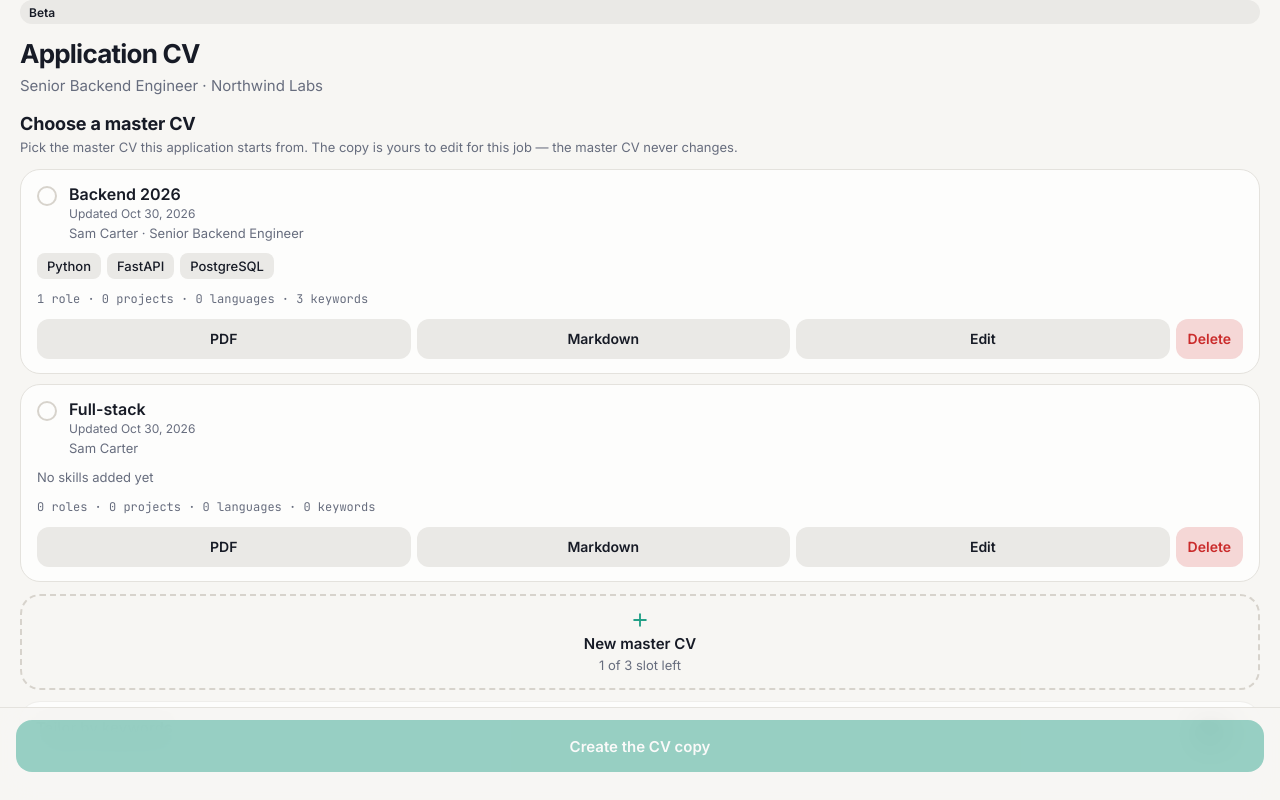
Test: ApplicationCvScreenView: the picker › Delete {name}: the sheet, Deleting... while the page deletes, closed once the CV left the list
Later steps or results of the test are not shown.
Step 1. Click the button with aria-label "Delete Backend 2026" → (1209,339), box [1176,317,1243,361]
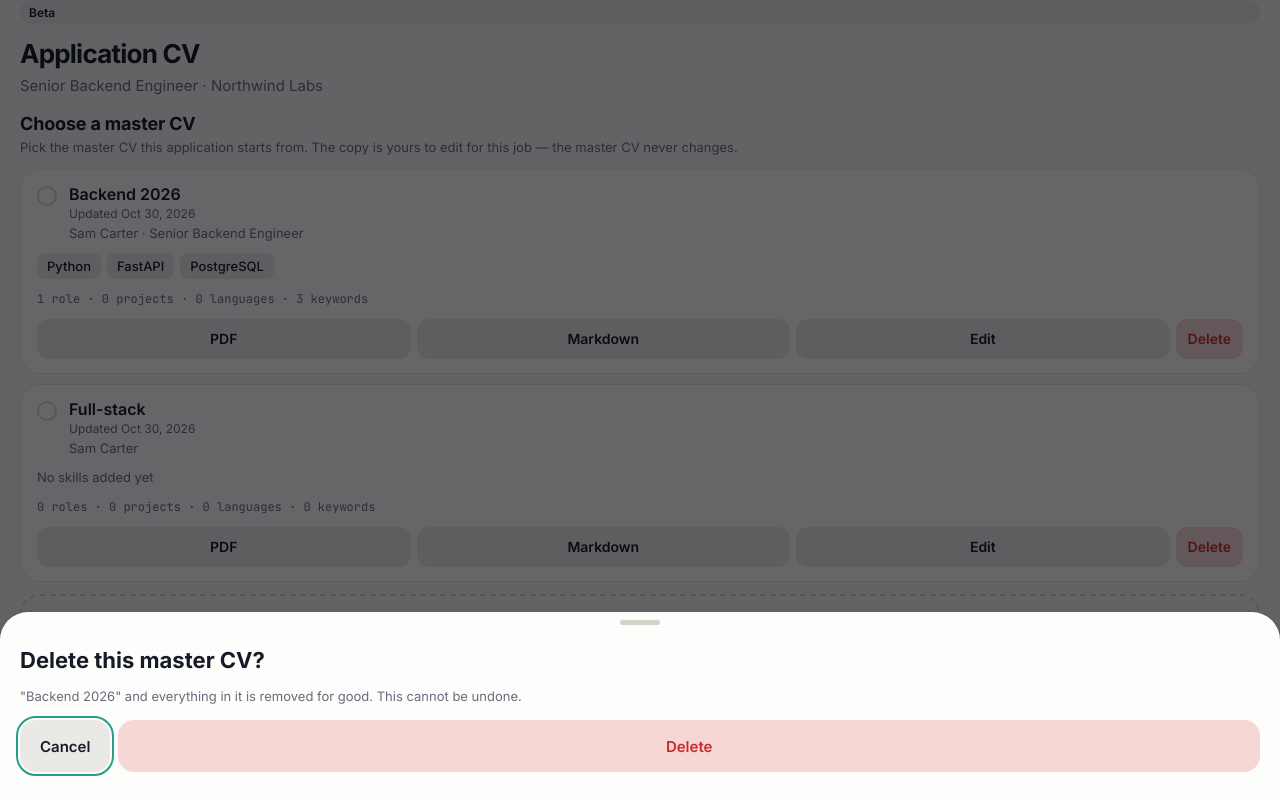
Now the dialog "Delete this master CV?" shows "\"Backend 2026\" and everything in it is removed for good. This cannot be undone.", box [20,688,522,704]
